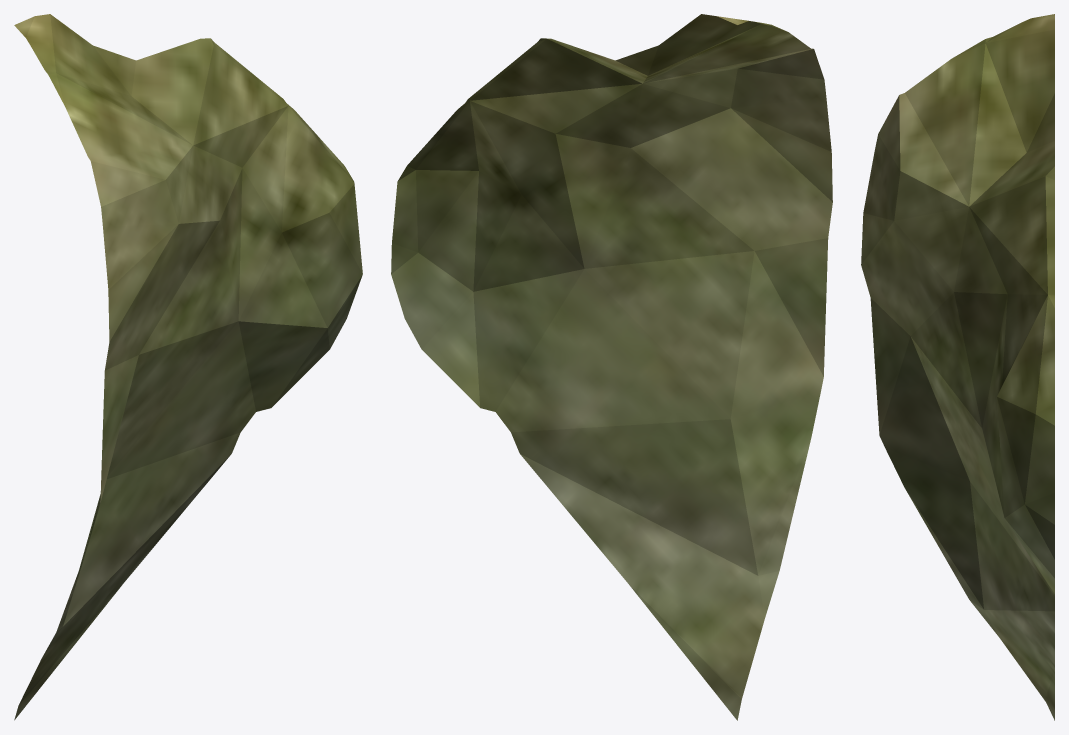
3 renders of one model, left to right at view 1: azimuth 30°, elevation 25°; view 2: azimuth 150°, elevation 25°; view 3: azimuth 270°, elevation 25°, orthographic.
Size of the model in its own units: 0.6458 by 1.25 by 0.3079.
Materials: 1 (1 with a texture image).
